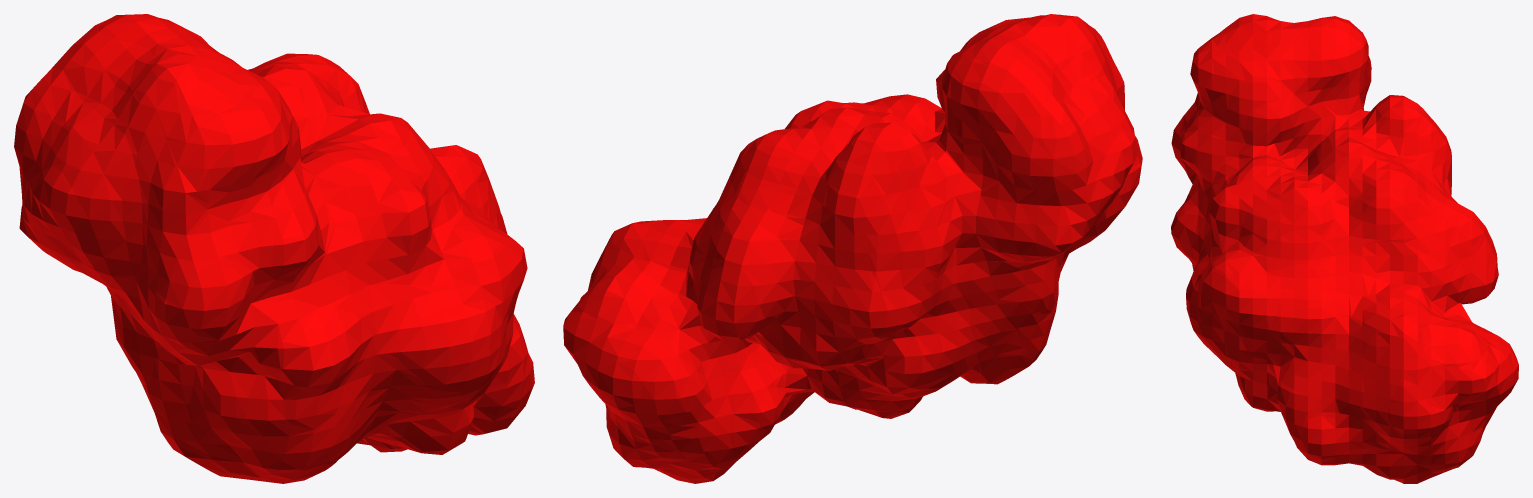
Rendered from asd_coarse.dae.
The picture shows the model from 3 angles, left to right: view 1: azimuth 30°, elevation 25°; view 2: azimuth 150°, elevation 25°; view 3: azimuth 270°, elevation 25°; orthographic projection. The views are drawn at different scales.
Visible parts, largest first — view 1: asd; view 2: asd; view 3: asd.
Boxes of the visible parts, x1,y1,x2,y2 form: asd: (14, 14, 534, 483); asd: (563, 14, 1142, 483); asd: (1171, 14, 1518, 483).
Bounding box in the file's own units: 85.55 × 80.02 × 69.94.
